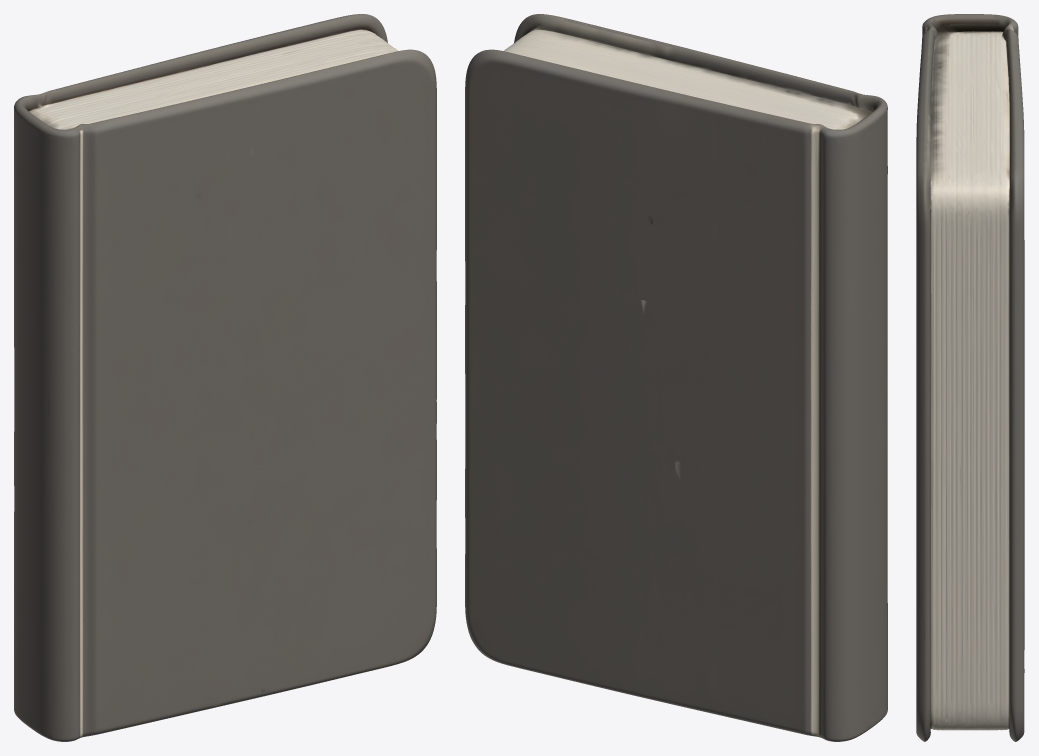
File: 手账本.glb
3 renders of one model, left to right at view 1: azimuth 30°, elevation 25°; view 2: azimuth 150°, elevation 25°; view 3: azimuth 270°, elevation 25°, orthographic. The views are drawn at different scales.
Visible parts, largest first — view 1: node_0; view 2: node_0; view 3: node_0.
Boxes of the visible parts, <box> form: node_0: <box>14,14,436,741</box>; node_0: <box>465,14,887,741</box>; node_0: <box>916,14,1024,741</box>.
Bounding box in the file's own units: 0.6625 × 1.01 × 0.1746.
1 material, 1 textured.
